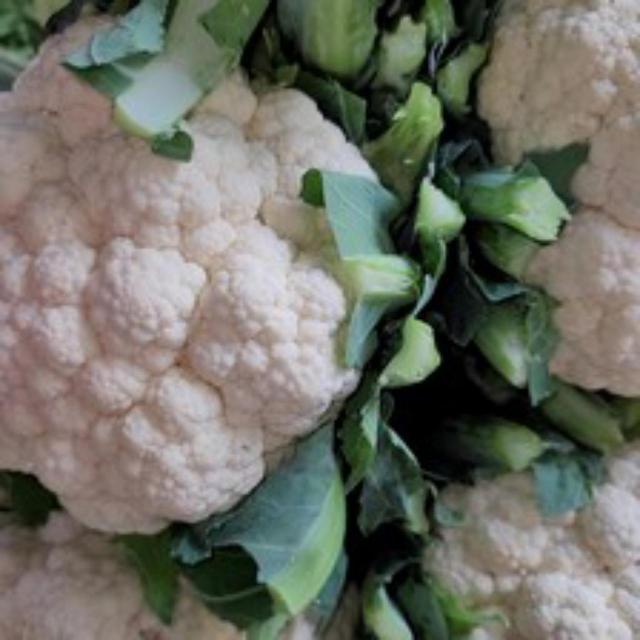cauliflower: (3, 11, 422, 542)
